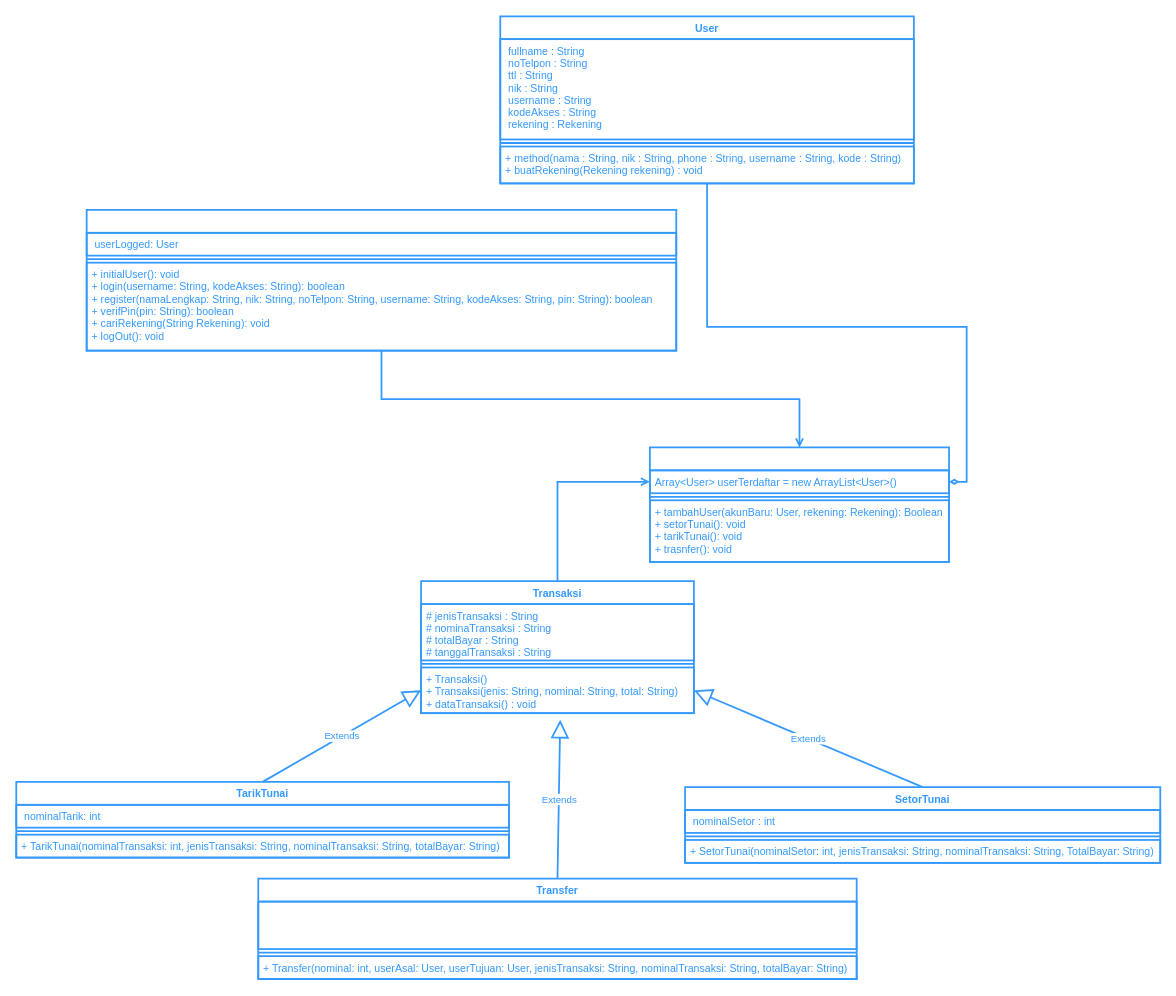
This 1176x996 diagram has some shape labels left out. Each missing label, with the box of its shape:
Authentication: (85, 209, 677, 351)
Bank: (649, 446, 950, 562)
nominal: int userAsal : User userTujuan : User: (257, 900, 857, 950)
